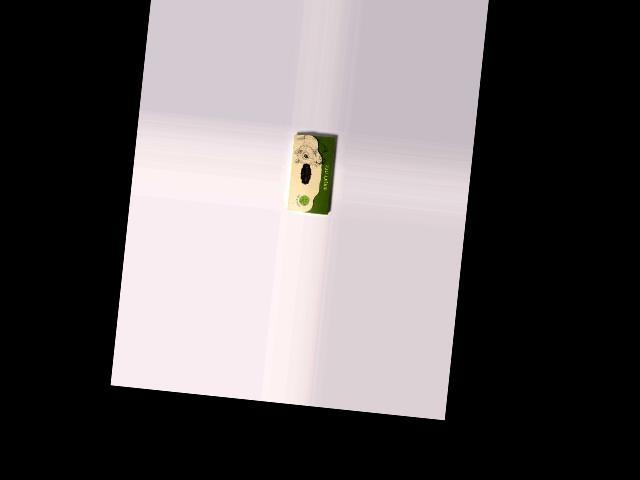chocolate: (285, 132, 337, 215)
